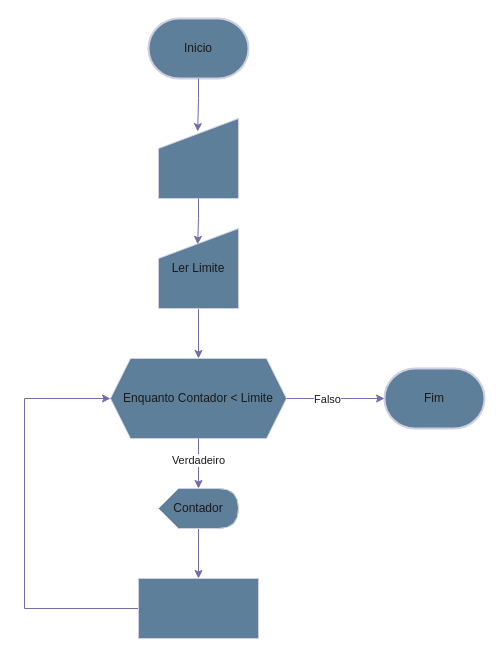
The diagram is 503 pixels wide and 656 high, and some of its shapes have lost their labels. Here are the shapes that lost their labels. From the top down, the box of each, then its label:
(158, 118, 238, 198): Ler Contador
(138, 578, 258, 638): Contador++
